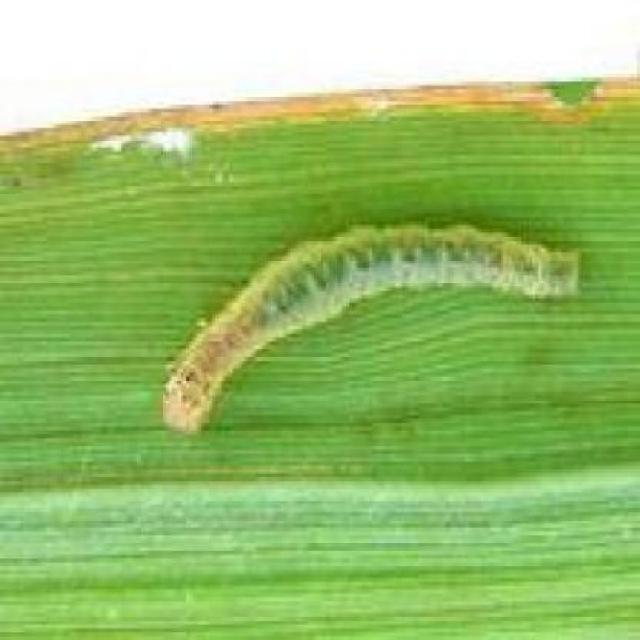leaf-folder: (162, 205, 582, 444)
